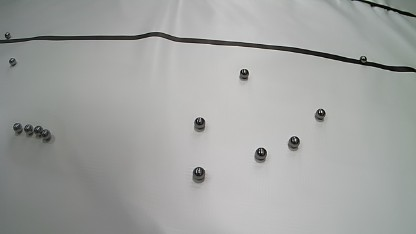ironball: (192, 166, 205, 183), (255, 147, 267, 161), (287, 136, 300, 148), (194, 117, 205, 131), (314, 108, 325, 120), (239, 68, 249, 79), (33, 125, 43, 136), (41, 129, 51, 140), (24, 124, 33, 134), (13, 123, 22, 133), (9, 57, 16, 66), (359, 55, 366, 63), (4, 32, 10, 39)
